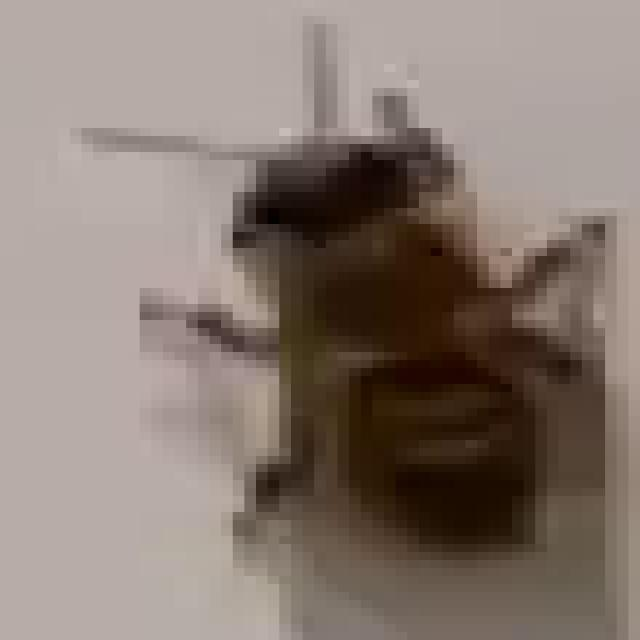honeybee: (98, 84, 596, 576)
